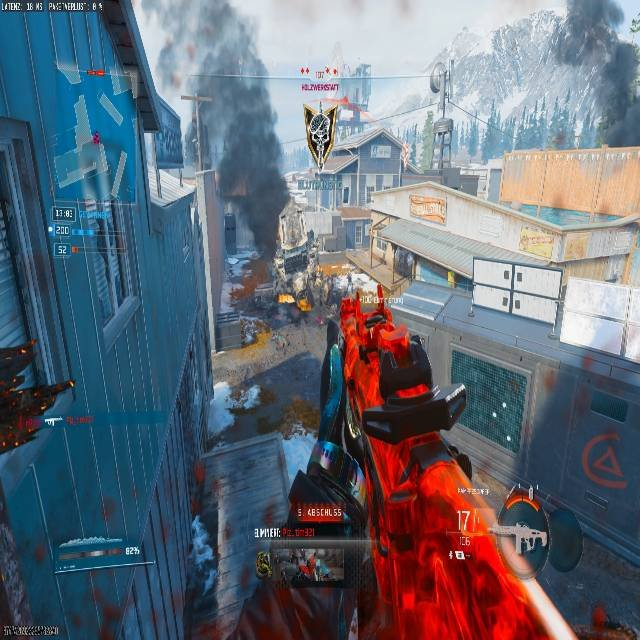head: (365, 313, 388, 330)
player: (255, 318, 514, 640)
